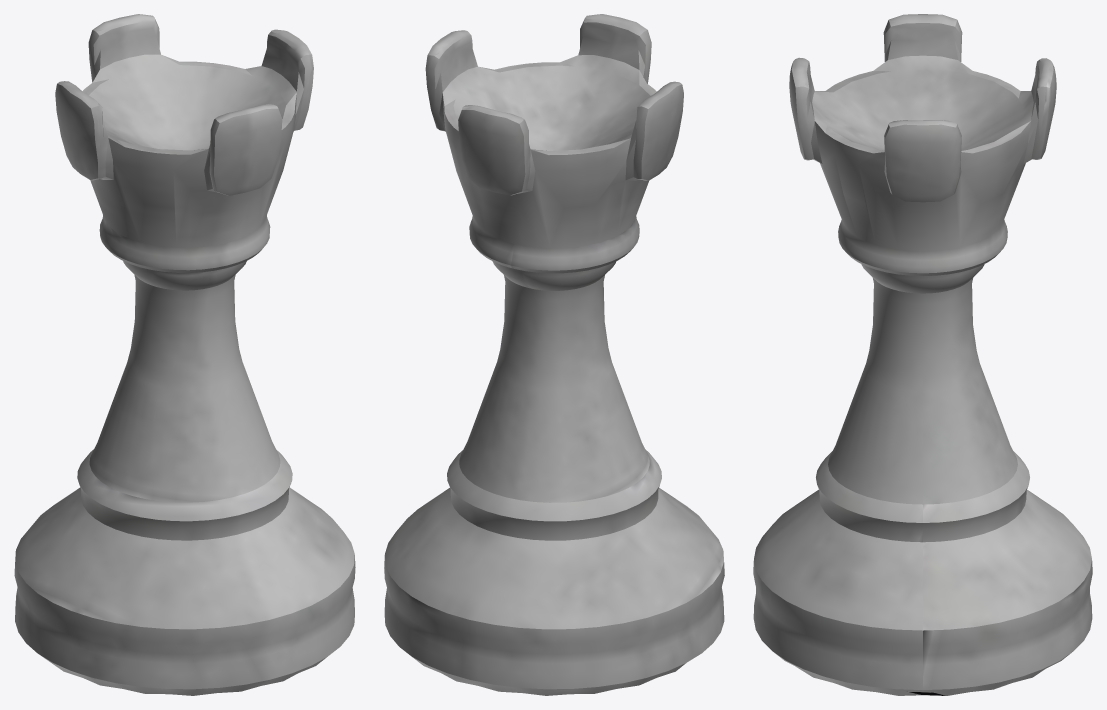
File: torre_Blanca.glb
3 renders of one model, left to right at view 1: azimuth 30°, elevation 25°; view 2: azimuth 150°, elevation 25°; view 3: azimuth 270°, elevation 25°, orthographic.
Parts seen in each view (by area): view 1: defaultMaterial.006; view 2: defaultMaterial.006; view 3: defaultMaterial.006.
Boxes of the visible parts, left/top/right/bottom form: defaultMaterial.006: left=14, top=14, right=355, bottom=695; defaultMaterial.006: left=384, top=14, right=724, bottom=695; defaultMaterial.006: left=753, top=14, right=1092, bottom=695.
Size of the model in its own units: 0.7819 by 1.43 by 0.7819.
Materials: 1 (1 with a texture image).
